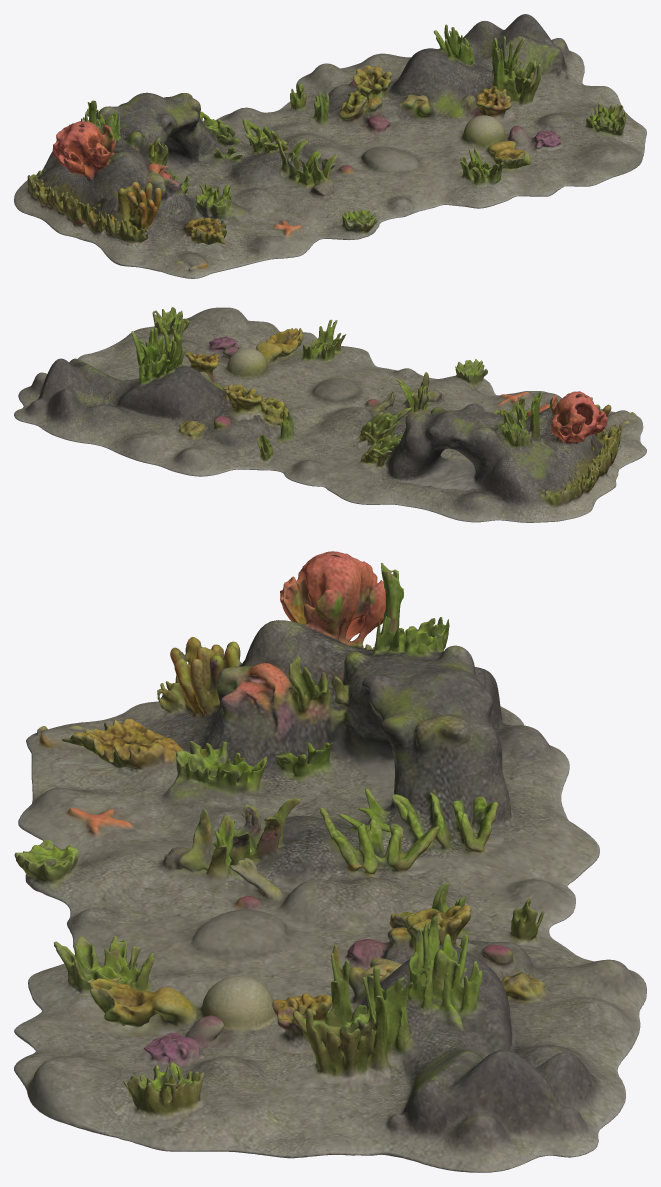
Rendered from corals3.glb.
3 views of the same model, one above another, from view 1: azimuth 30°, elevation 25°; view 2: azimuth 150°, elevation 25°; view 3: azimuth 270°, elevation 25° (orthographic). The views are drawn at different scales.
Bounding box in the file's own units: 1.9 × 0.3327 × 1.05.
Materials: 1 (1 with a texture image).
